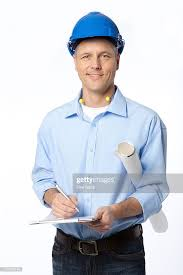Person_wearing_helmet: (60, 3, 131, 61)
